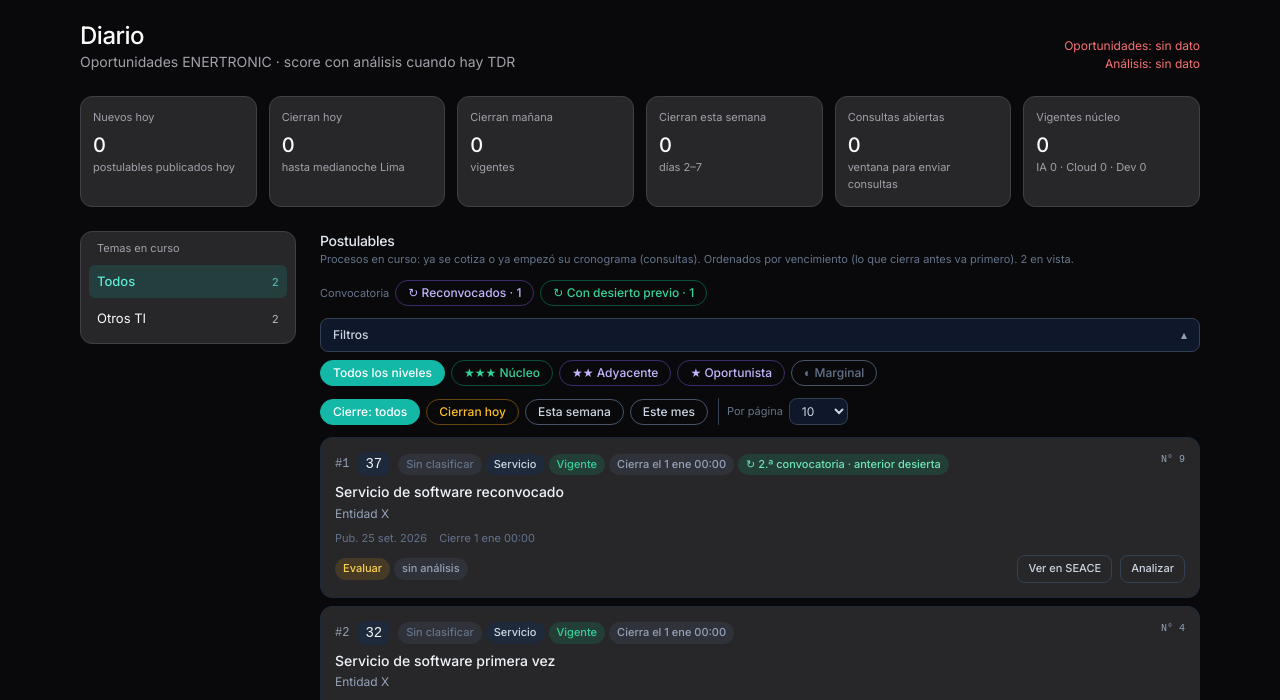
Diario: filtro de convocatorias › los accesos muestran el conteo y recortan la lista; «Ver todas» la restaura
Check: the button "↻ Reconvocados · 1" is shown, box top-left (395, 280), bottom-right (534, 306)
Check: the button "Servicio de software primera vez" is shown, box top-left (335, 651), bottom-right (1185, 670)
Click the button "↻ Con desierto previo · 1" at (624, 293), box top-left (540, 280), bottom-right (707, 306)
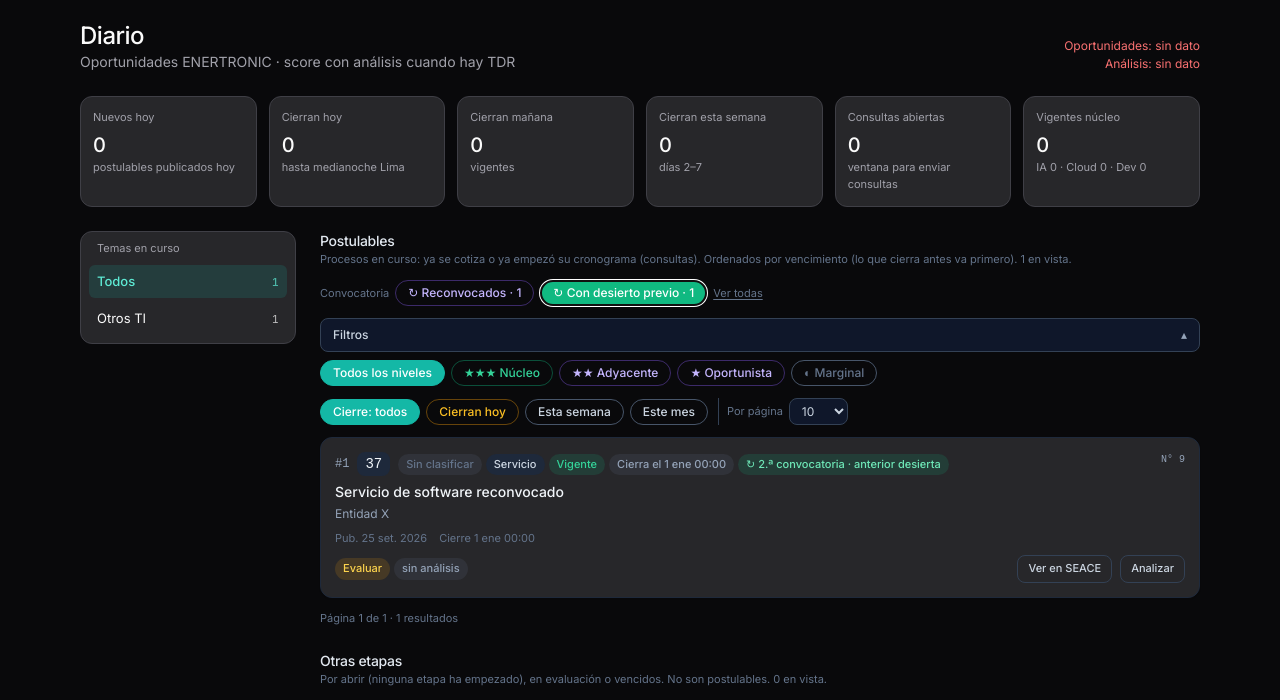
Check: the button "Servicio de software reconvocado" is shown, box top-left (335, 482), bottom-right (1185, 502)
Check: the button "primera vez" is gone
Click the button "Ver todas" at (738, 293), box top-left (713, 285), bottom-right (763, 302)
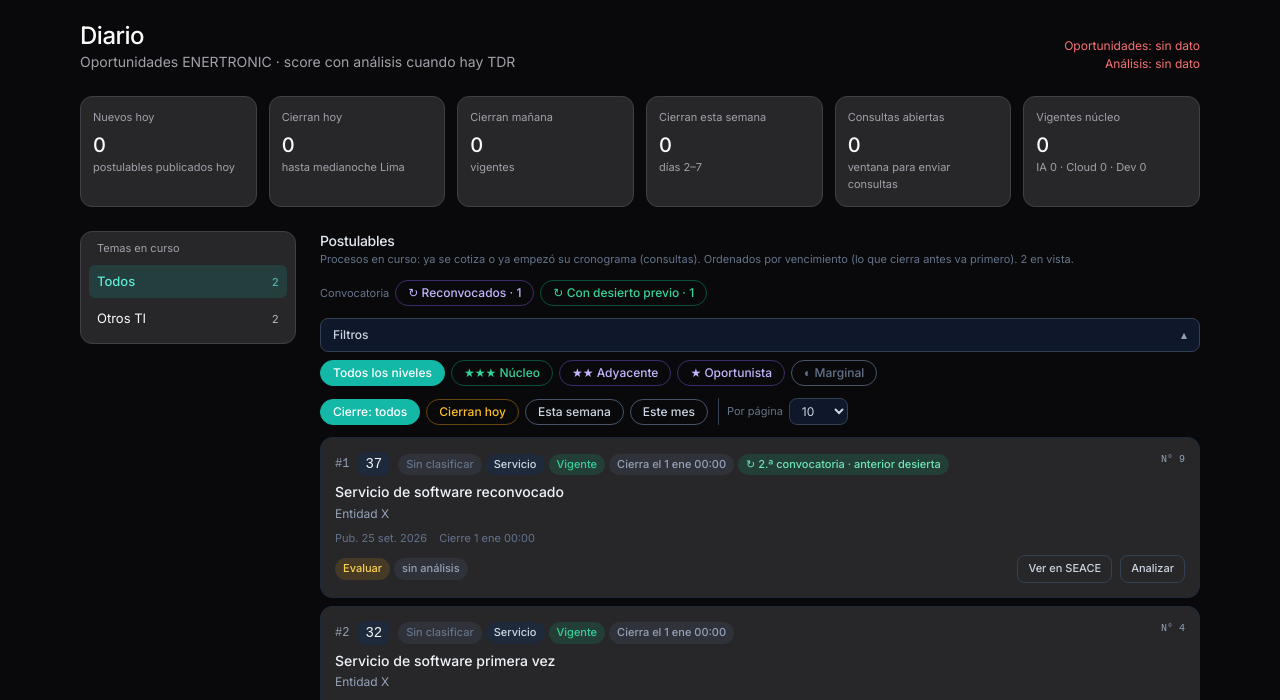
Check: the button "Servicio de software primera vez" is shown, box top-left (335, 651), bottom-right (1185, 670)
Check: the button "Ver todas" is gone
